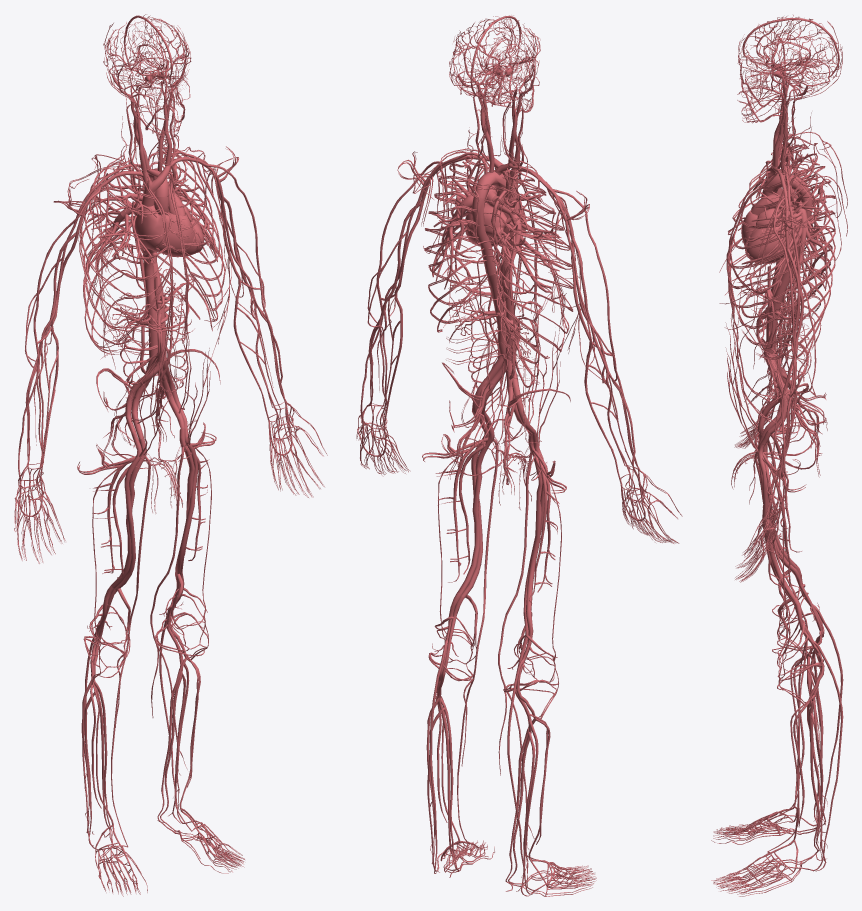
The model's file is cardio.glb.
3 views of the same model, side by side, from view 1: azimuth 30°, elevation 25°; view 2: azimuth 150°, elevation 25°; view 3: azimuth 270°, elevation 25° (orthographic). The views are drawn at different scales.
Visible parts, largest first — view 1: cardio; view 2: cardio; view 3: cardio.
Part boxes in pixels (box(x1,y1,x2,y2)): cardio: box(14, 14, 327, 896); cardio: box(356, 15, 682, 896); cardio: box(711, 15, 847, 896).
Bounding box in the file's own units: 0.6637 × 1.7 × 0.2491.
